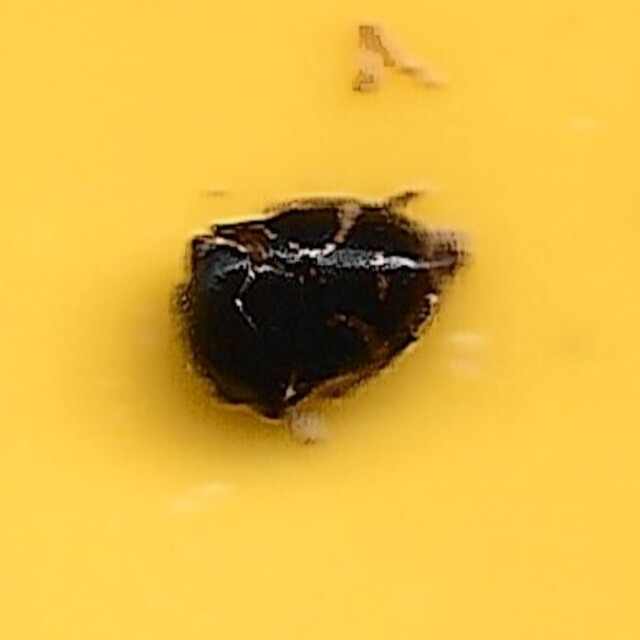Hemiptera: (165, 186, 475, 454)
